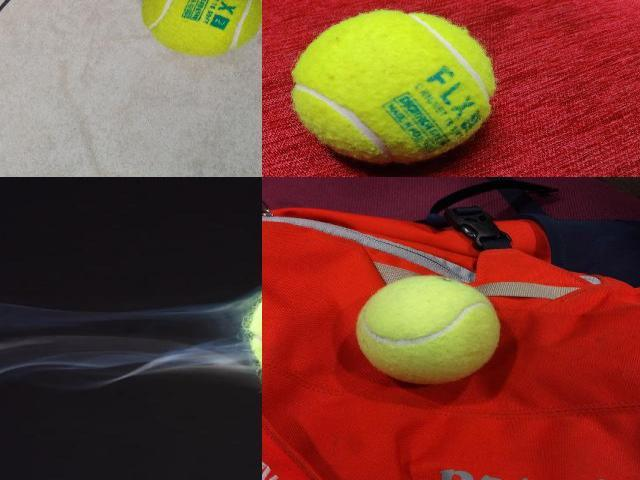tennis-ball: (291, 9, 497, 164), (355, 274, 501, 386), (141, 0, 261, 57)
